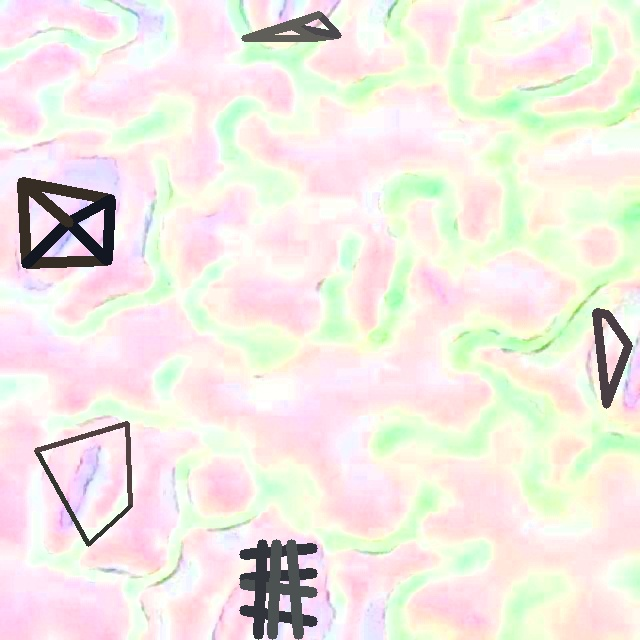open: (34, 421, 132, 546), (21, 178, 115, 265), (239, 539, 317, 639), (593, 310, 632, 407), (242, 11, 341, 40)
